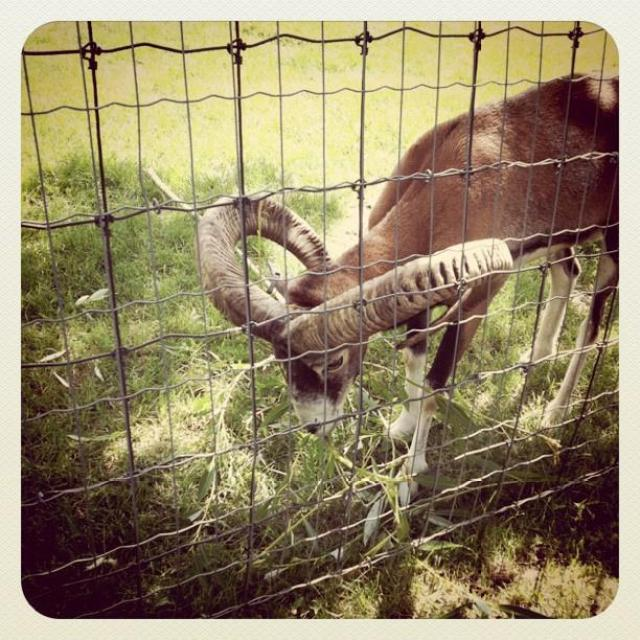Sheep: (198, 66, 626, 442)
